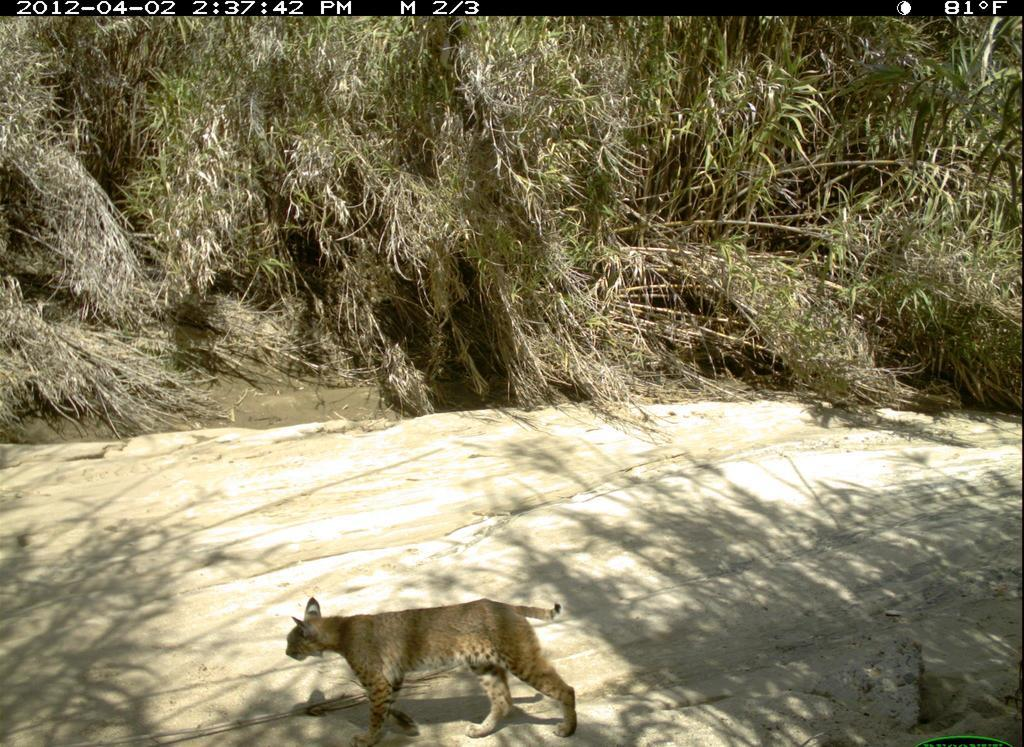bobcat: (277, 580, 598, 742)
